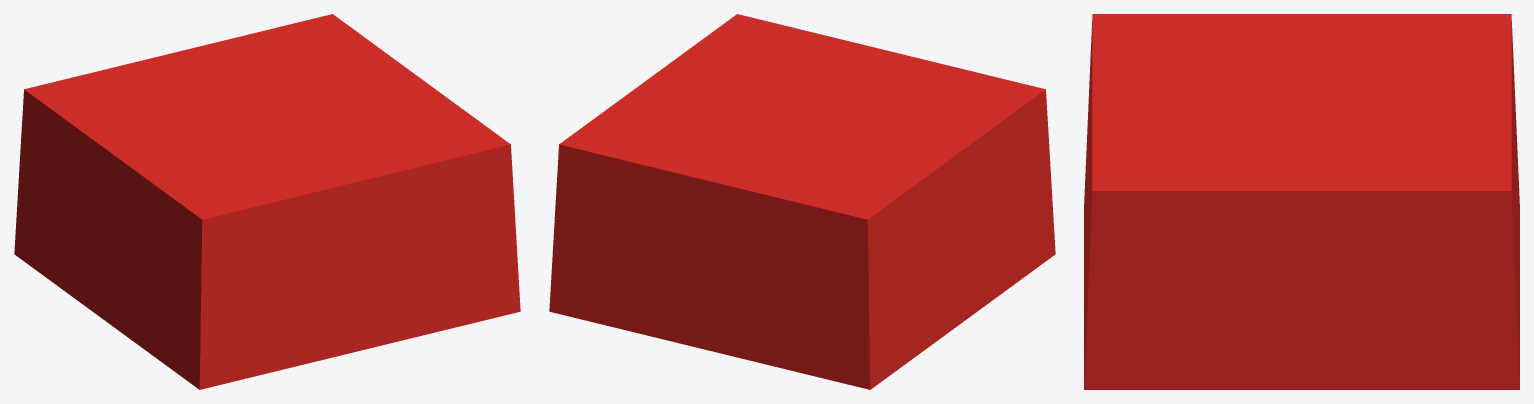
The picture shows the model from 3 angles, left to right: view 1: azimuth 30°, elevation 25°; view 2: azimuth 150°, elevation 25°; view 3: azimuth 270°, elevation 25°; orthographic projection. The views are drawn at different scales.
Parts seen in each view (by area): view 1: =>[0:1:1:2]; view 2: =>[0:1:1:2]; view 3: =>[0:1:1:2].
Boxes of the visible parts, bbox=[...] form: =>[0:1:1:2]: bbox=[14, 14, 520, 389]; =>[0:1:1:2]: bbox=[549, 14, 1055, 389]; =>[0:1:1:2]: bbox=[1084, 14, 1519, 389].
Size of the model in its own units: 0.0182 by 0.009 by 0.0182.
